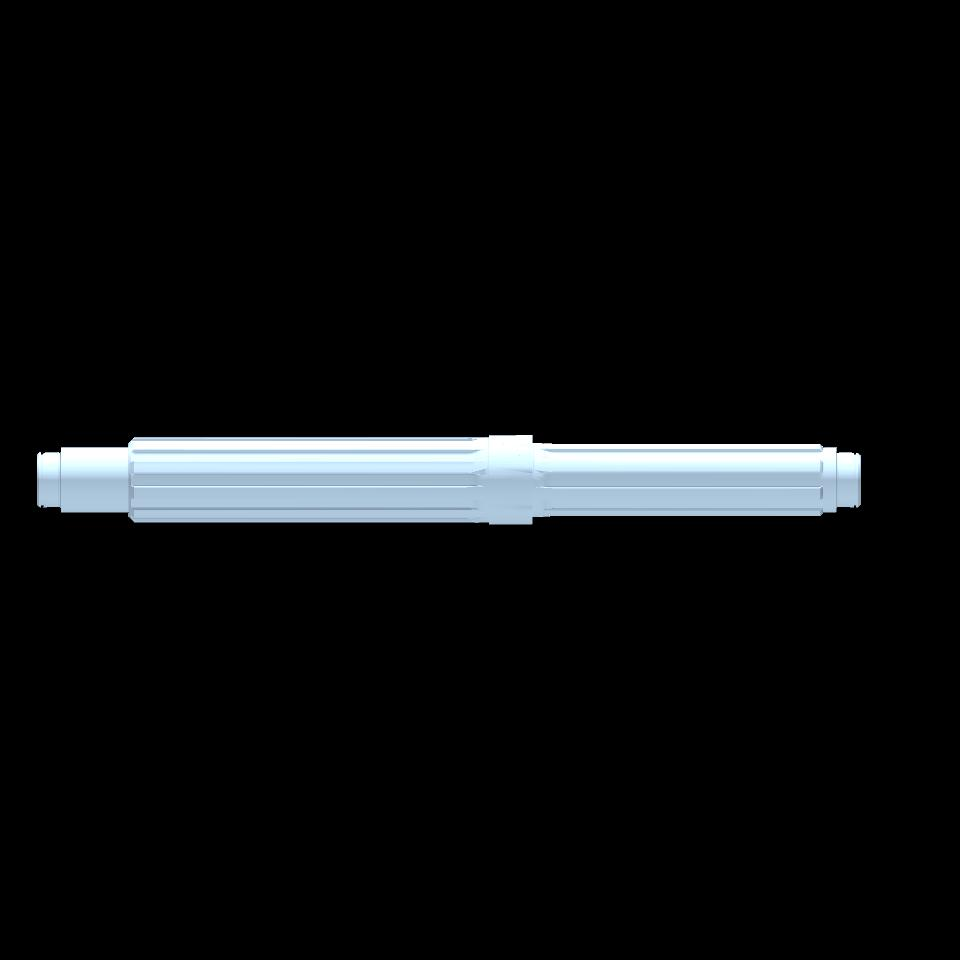Straight: (134, 437, 476, 523), (549, 444, 818, 516)
